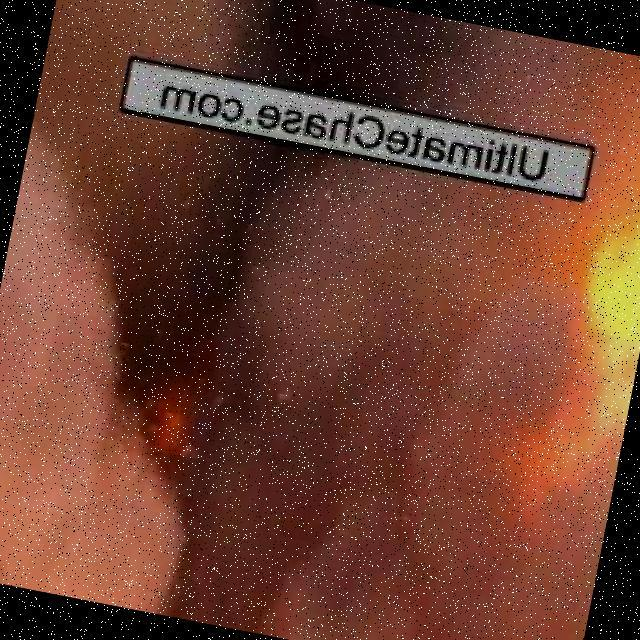Fire: (500, 147, 640, 523), (121, 363, 205, 477)
